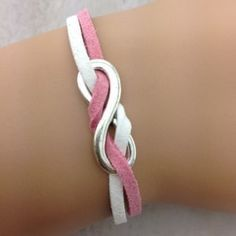gamuza: (65, 8, 143, 225)
